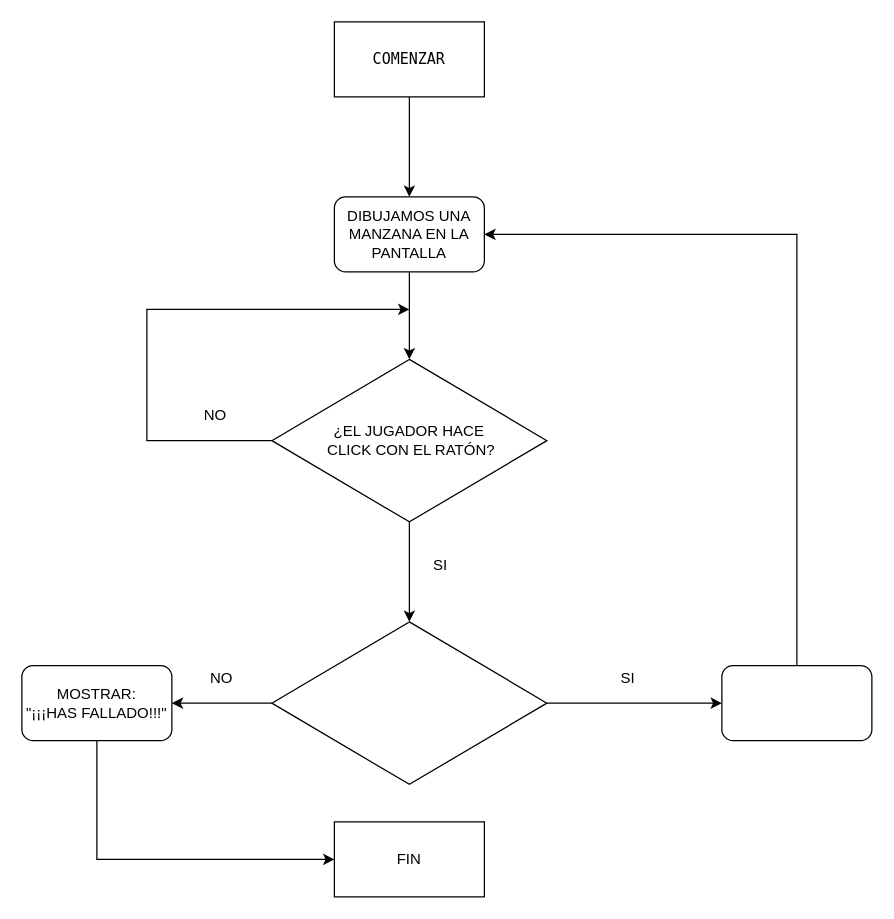
This 894x919 diagram has some shape labels left out. Here are the shapes that lost their labels. From the top down, the centre of each, then its label:
point 409,702: ¿EL JUGADOR HACE CLICK EN LA MANZANA?
point 796,702: MOSTRAR: "¡¡¡BUEN TIRO!!!"
